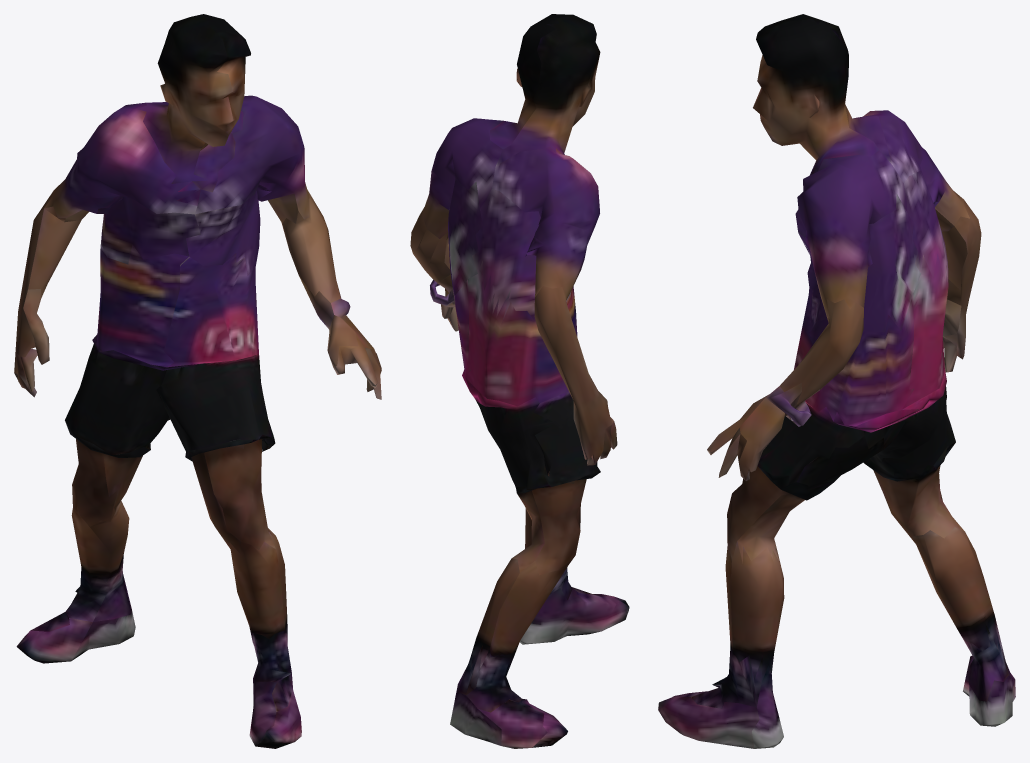
The model's file is 10_2_idle_lod2.glb.
3 views of the same model, side by side, from view 1: azimuth 30°, elevation 25°; view 2: azimuth 150°, elevation 25°; view 3: azimuth 270°, elevation 25° (orthographic). The views are drawn at different scales.
Visible parts, largest first — view 1: Idle; view 2: Idle; view 3: Idle.
Boxes of the visible parts, x1,y1,x2,y2 form: Idle: (14, 14, 381, 748); Idle: (410, 14, 629, 748); Idle: (658, 14, 1015, 748).
Size of the model in its own units: 39.07 by 94.98 by 43.8.
Materials: 1 (1 with a texture image).
